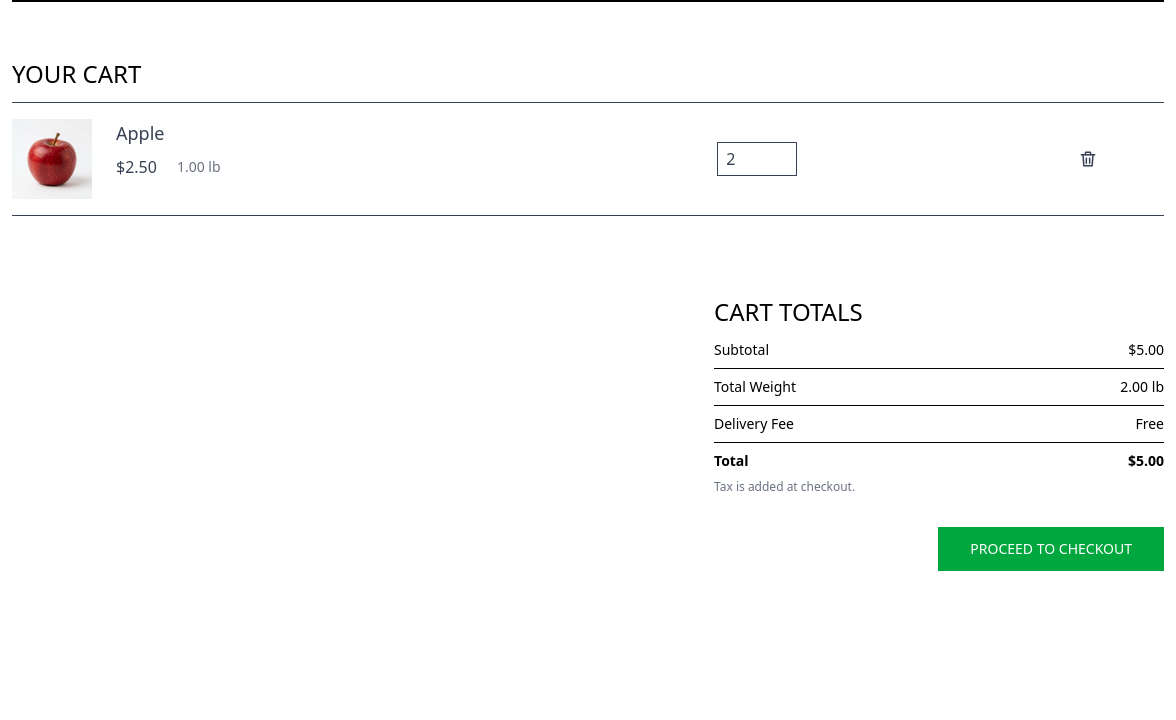
Test: Cart › changing quantity displays the updated quantity and totals
The image size is (1176, 720).
Replace the text in the number field with "3" at point(757, 159), box [717,142,797,176]
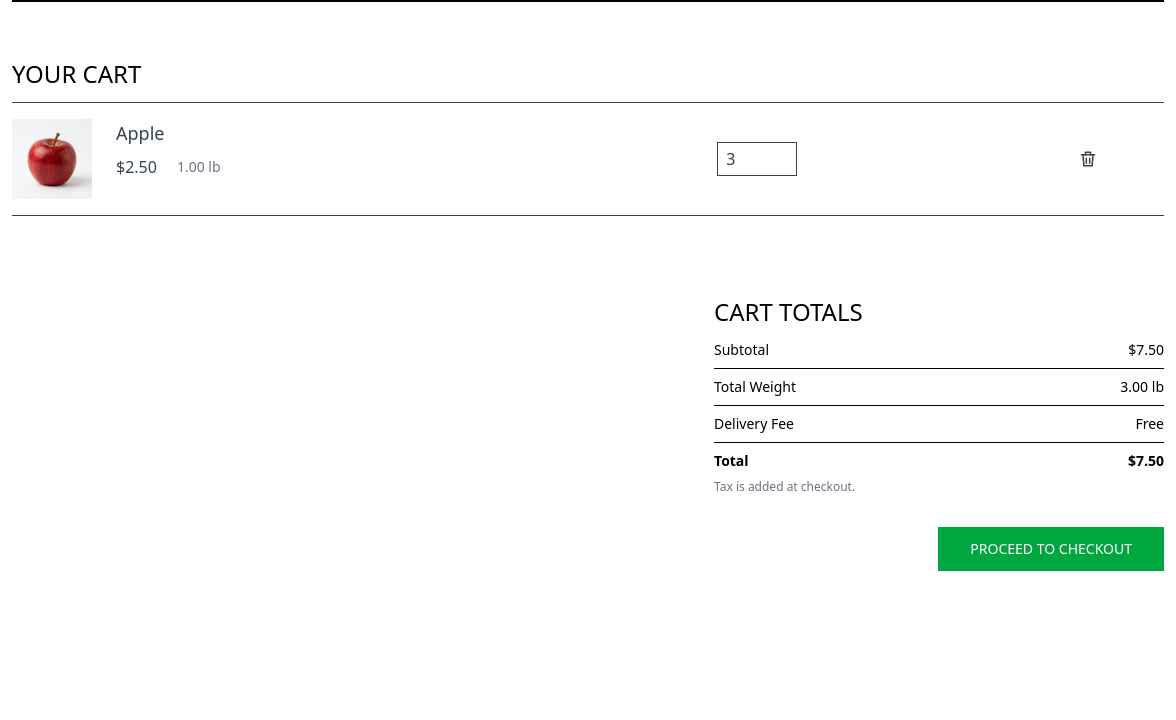
Expected: the text "$7.50" is shown 2 times, [1128,340,1164,360]; [1128,451,1164,471]
Result: the text "3.00 lb" is shown at [1120,377,1164,397]
